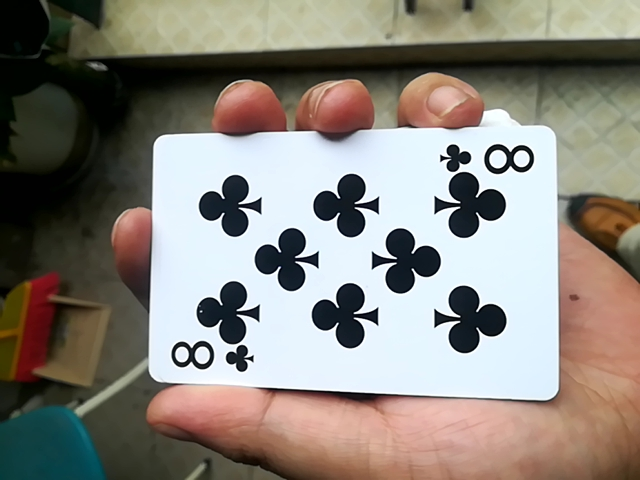mh 8: (135, 120, 549, 413)
